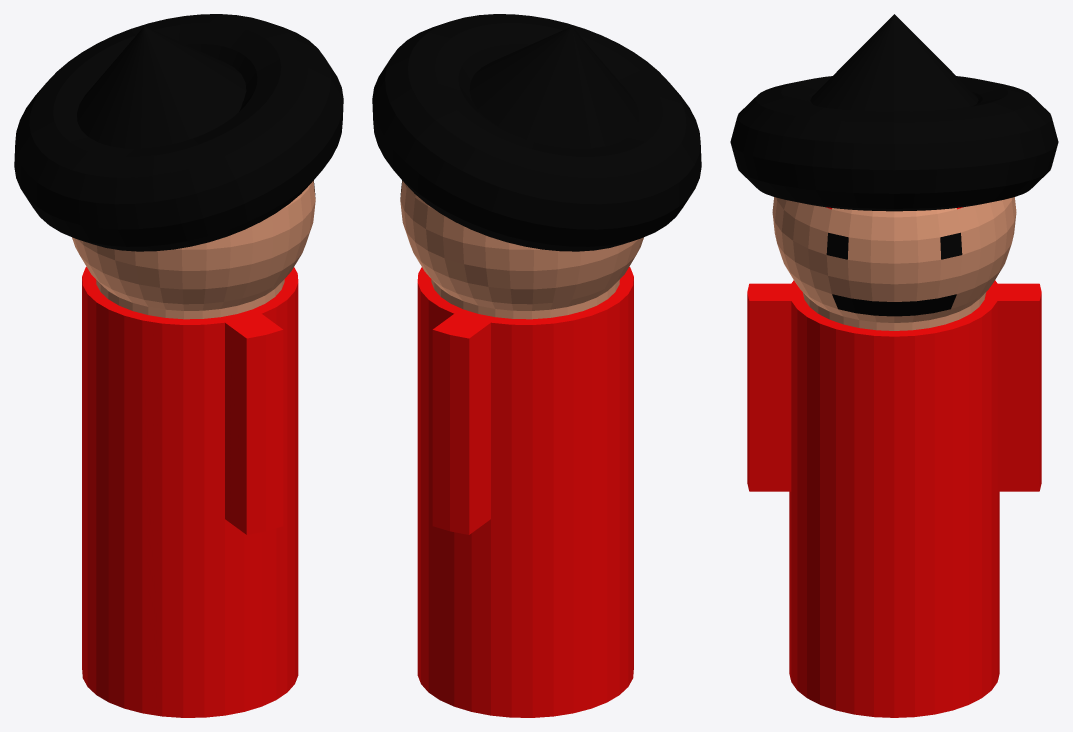
File: BasicInfantry.fbx
The picture shows the model from 3 angles, left to right: view 1: azimuth 30°, elevation 25°; view 2: azimuth 150°, elevation 25°; view 3: azimuth 270°, elevation 25°; orthographic projection. The views are drawn at different scales.
Visible parts, largest first — view 1: Infanty; view 2: Infanty; view 3: Infanty.
Boxes of the visible parts, x1,y1,x2,y2 form: Infanty: (14, 14, 343, 717); Infanty: (372, 14, 701, 717); Infanty: (730, 14, 1058, 717).
Bounding box in the file's own units: 0.78 × 0.7533 × 1.67.
